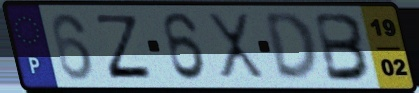6: (159, 10, 207, 83), (49, 10, 96, 82)
B: (312, 10, 374, 84)
D: (261, 10, 321, 84)
X: (204, 11, 269, 83)
Z: (93, 12, 156, 81)
